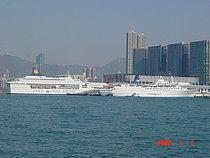Ship: (8, 76, 94, 97), (110, 84, 202, 101)
